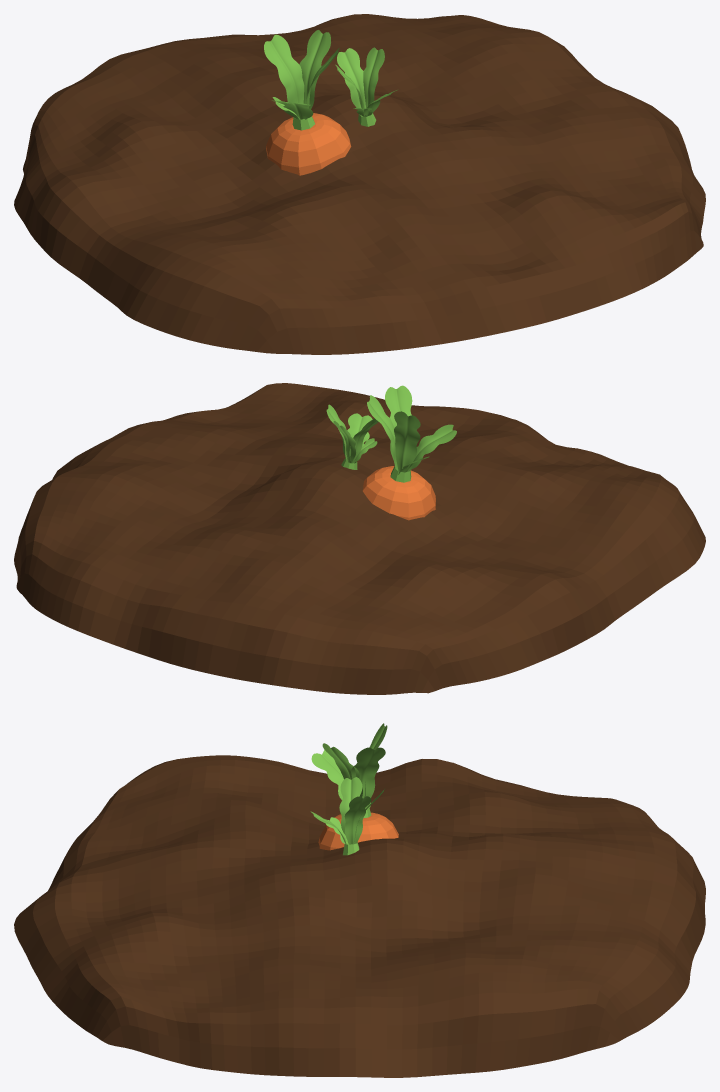
File: Carrot_M.fbx
3 views of the same model, one above another, from view 1: azimuth 30°, elevation 25°; view 2: azimuth 150°, elevation 25°; view 3: azimuth 270°, elevation 25° (orthographic). The views are drawn at different scales.
Parts seen in each view (by area): view 1: Plane.018; view 2: Plane.018; view 3: Plane.018.
Boxes of the visible parts, x1,y1,x2,y2 form: Plane.018: (14, 14, 705, 354); Plane.018: (14, 383, 705, 694); Plane.018: (14, 723, 705, 1077).
Bounding box in the file's own units: 4576 × 1313 × 4538.
